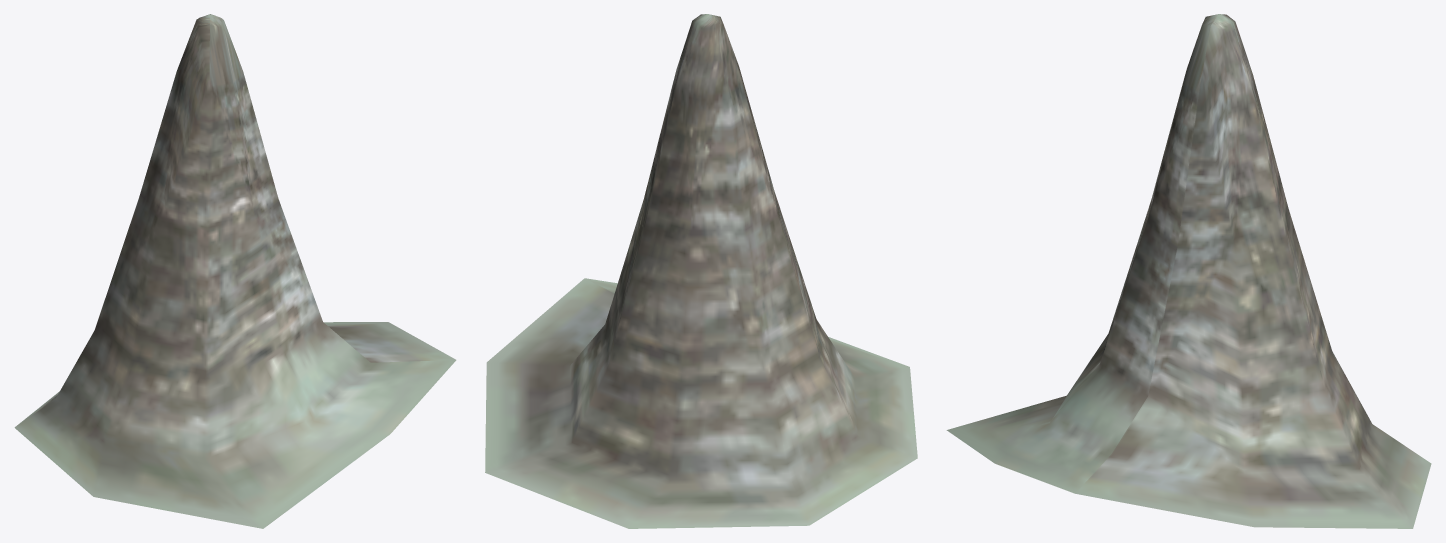
The model's file is TROLLHOLE02_PS-MAINSTALAG44.fbx.
3 views of the same model, side by side, from view 1: azimuth 30°, elevation 25°; view 2: azimuth 150°, elevation 25°; view 3: azimuth 270°, elevation 25° (orthographic). The views are drawn at different scales.
Parts seen in each view (by area): view 1: TROLLHOLE02_PS-MAINSTALAG44; view 2: TROLLHOLE02_PS-MAINSTALAG44; view 3: TROLLHOLE02_PS-MAINSTALAG44.
Boxes of the visible parts, x1,y1,x2,y2 form: TROLLHOLE02_PS-MAINSTALAG44: (14,14,456,528); TROLLHOLE02_PS-MAINSTALAG44: (485,14,917,528); TROLLHOLE02_PS-MAINSTALAG44: (946,14,1431,528).
Bounding box in the file's own units: 31874 × 35814 × 34183.
Materials: 1 (1 with a texture image).
